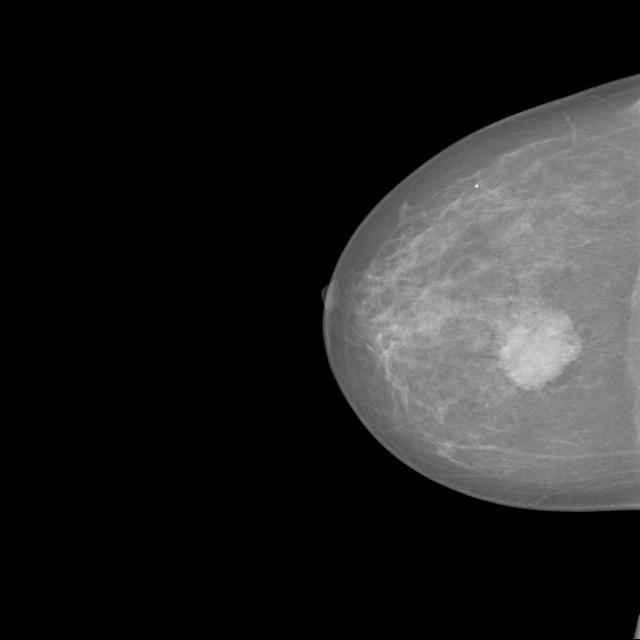Mass_1: (474, 282, 600, 408)
